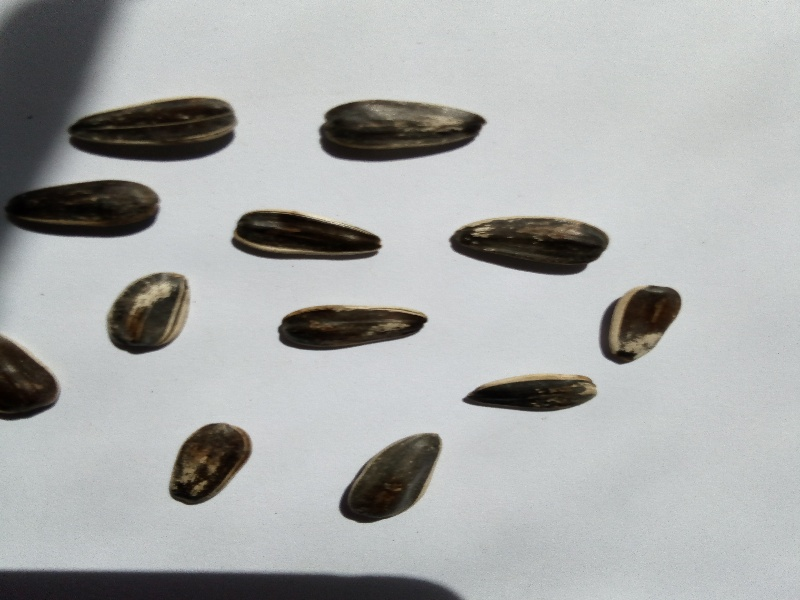girasol: (307, 81, 494, 165), (445, 204, 612, 283), (331, 417, 448, 526), (65, 95, 251, 162), (225, 198, 384, 273), (154, 411, 260, 514), (267, 292, 436, 356), (92, 260, 198, 362), (595, 267, 685, 374), (455, 366, 609, 420)
